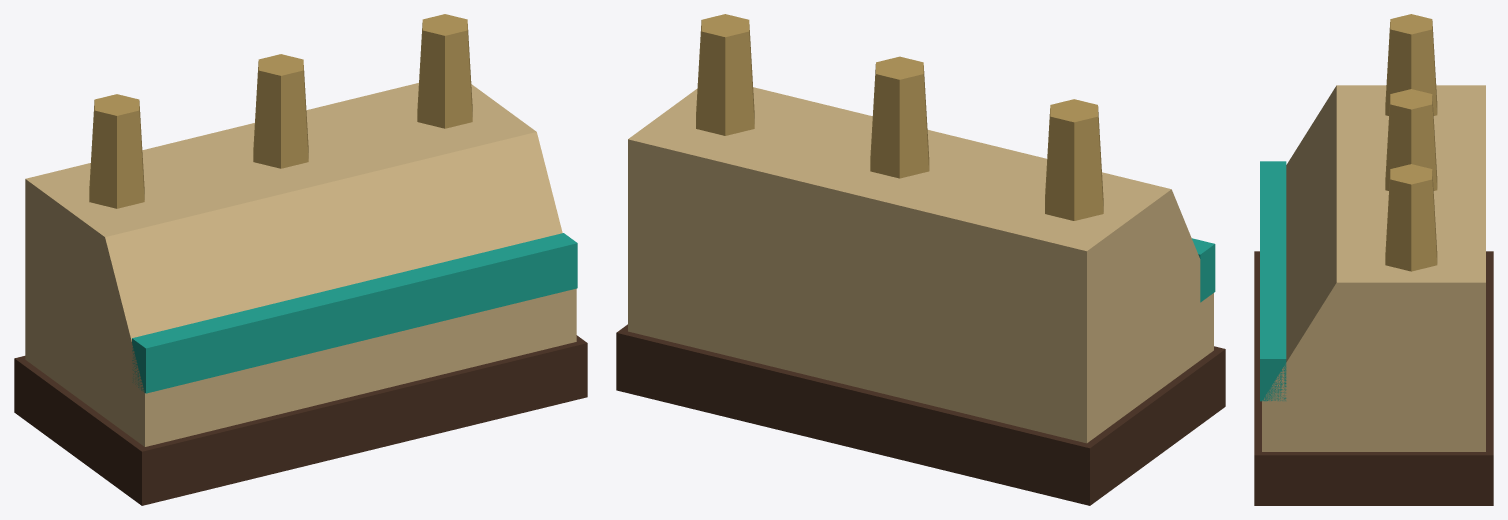
The model's file is barrierB.glb.
3 renders of one model, left to right at view 1: azimuth 30°, elevation 25°; view 2: azimuth 150°, elevation 25°; view 3: azimuth 270°, elevation 25°, orthographic. The views are drawn at different scales.
Parts seen in each view (by area): view 1: palmCove-barrierB; view 2: palmCove-barrierB; view 3: palmCove-barrierB.
Part boxes in pixels (box(x1,y1,x2,y2)): palmCove-barrierB: box(14, 14, 587, 505); palmCove-barrierB: box(616, 14, 1225, 505); palmCove-barrierB: box(1254, 14, 1493, 505).
Bounding box in the file's own units: 0.258 × 0.18 × 0.128.
